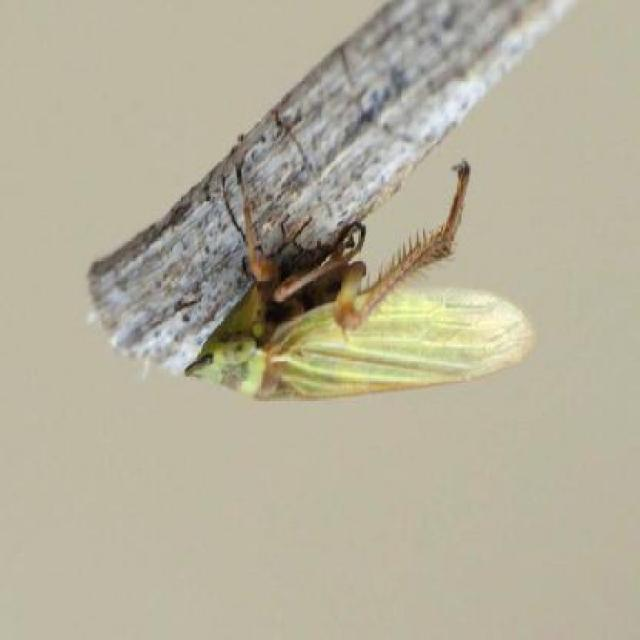green-leafhopper: (185, 158, 540, 408)
